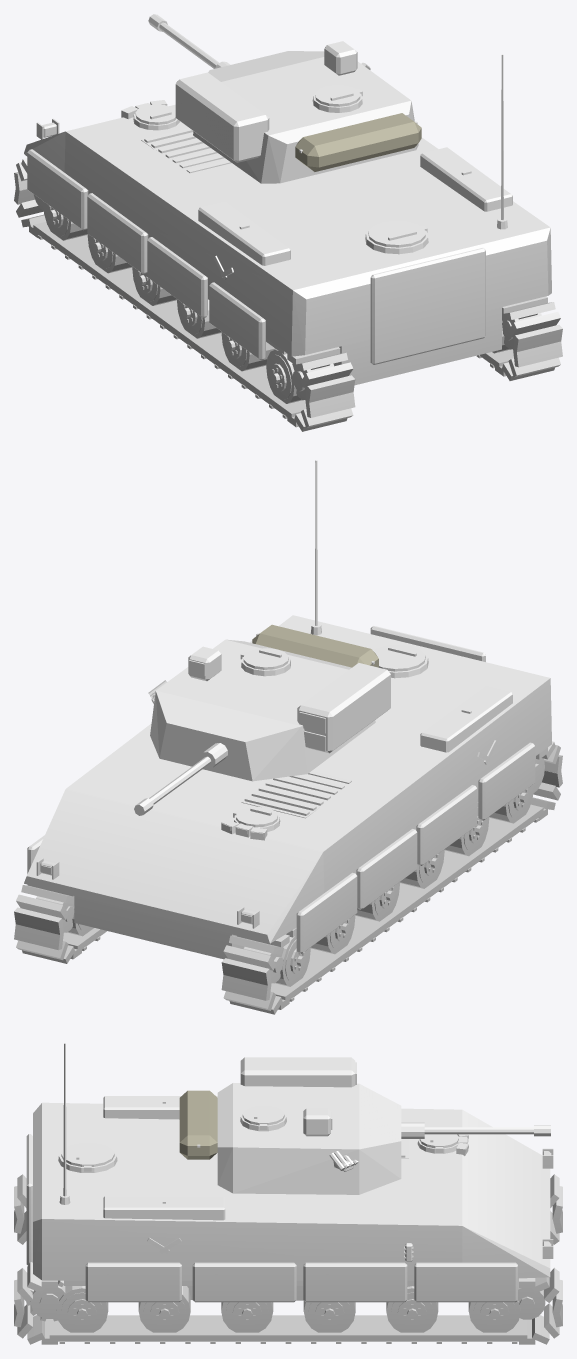
File: ifv_blue.glb
The picture shows the model from 3 angles, top to bottom: view 1: azimuth 30°, elevation 25°; view 2: azimuth 150°, elevation 25°; view 3: azimuth 270°, elevation 25°; orthographic projection. The views are drawn at different scales.
Parts seen in each view (by area): view 1: body, turret, barrel; view 2: body, turret, barrel; view 3: body, turret, barrel.
Part boxes in pixels (x1,y1,x2,y2): body: [14, 54, 562, 431]; turret: [175, 41, 421, 183]; barrel: [148, 14, 230, 68]; body: [14, 460, 562, 1014]; turret: [148, 624, 390, 781]; barrel: [134, 743, 227, 815]; body: [14, 1043, 562, 1344]; turret: [179, 1057, 401, 1194]; barrel: [401, 1122, 550, 1138].
Bounding box in the file's own units: 3.86 × 4.14 × 7.18.
